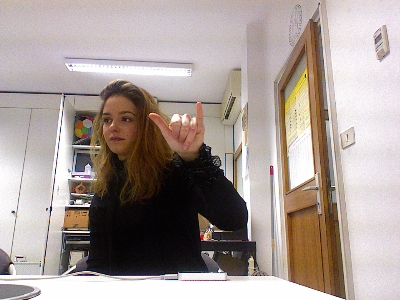六六六: (146, 99, 206, 154)
